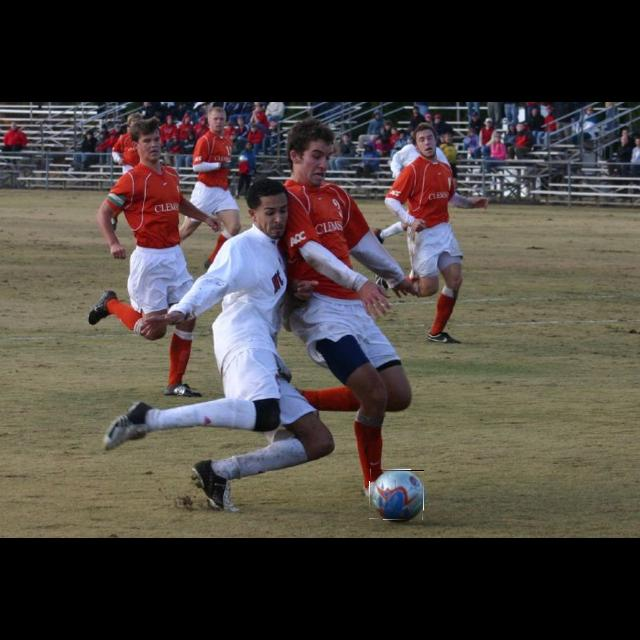Football: (370, 470, 424, 520)
